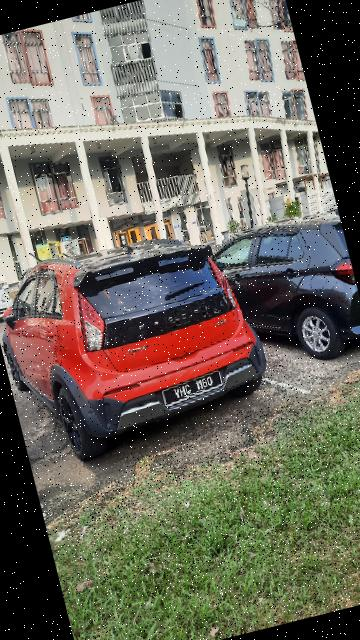License_Plate: (155, 365, 228, 412)
car: (1, 213, 280, 476), (200, 202, 360, 387)
